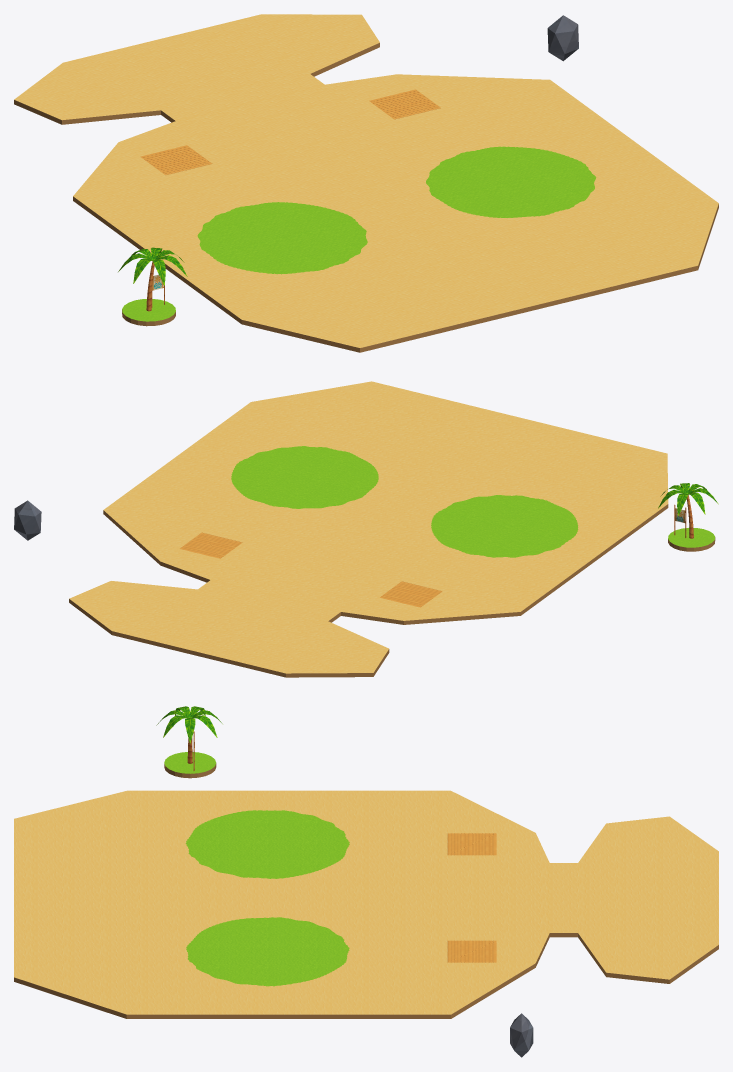
File: surface-24-C5EkJ78d.glb
The picture shows the model from 3 angles, top to bottom: view 1: azimuth 30°, elevation 25°; view 2: azimuth 150°, elevation 25°; view 3: azimuth 270°, elevation 25°; orthographic projection. The views are drawn at different scales.
Parts seen in each view (by area): view 1: HI_Surface_24, FLC_Regions_24, HI_PalmDeck_1.001, HI_PalmDeck_0.001, HI_SceneryIslet_0.013, HI_Palm.012, HI_BasaltOutcrop.013; view 2: HI_Surface_24, FLC_Regions_24, HI_PalmDeck_1.001, HI_PalmDeck_0.001, HI_SceneryIslet_0.013, HI_Palm.012, HI_BasaltOutcrop.013; view 3: HI_Surface_24, FLC_Regions_24, HI_PalmDeck_0.001, HI_PalmDeck_1.001, HI_SceneryIslet_0.013, HI_Palm.012, HI_BasaltOutcrop.013.
Boxes of the visible parts, x1=… form: HI_Surface_24: x1=14, y1=14, x2=718, y2=352; FLC_Regions_24: x1=197, y1=146, x2=596, y2=274; HI_PalmDeck_1.001: x1=369, y1=89, x2=440, y2=119; HI_PalmDeck_0.001: x1=140, y1=145, x2=212, y2=175; HI_SceneryIslet_0.013: x1=122, y1=299, x2=175, y2=326; HI_Palm.012: x1=118, y1=247, x2=187, y2=311; HI_BasaltOutcrop.013: x1=547, y1=15, x2=578, y2=61; HI_Surface_24: x1=69, y1=381, x2=668, y2=677; FLC_Regions_24: x1=231, y1=446, x2=578, y2=557; HI_PalmDeck_1.001: x1=179, y1=532, x2=242, y2=558; HI_PalmDeck_0.001: x1=380, y1=581, x2=442, y2=607; HI_SceneryIslet_0.013: x1=668, y1=528, x2=715, y2=551; HI_Palm.012: x1=658, y1=483, x2=718, y2=538; HI_BasaltOutcrop.013: x1=14, y1=500, x2=41, y2=540; HI_Surface_24: x1=14, y1=790, x2=718, y2=1018; FLC_Regions_24: x1=185, y1=810, x2=349, y2=986; HI_PalmDeck_0.001: x1=447, y1=833, x2=496, y2=855; HI_PalmDeck_1.001: x1=447, y1=940, x2=496, y2=962; HI_SceneryIslet_0.013: x1=164, y1=752, x2=216, y2=778; HI_Palm.012: x1=156, y1=706, x2=222, y2=763; HI_BasaltOutcrop.013: x1=510, y1=1013, x2=533, y2=1057.
Bounding box in the file's own units: 45.25 × 5.15 × 46.
8 materials, 7 textured.
